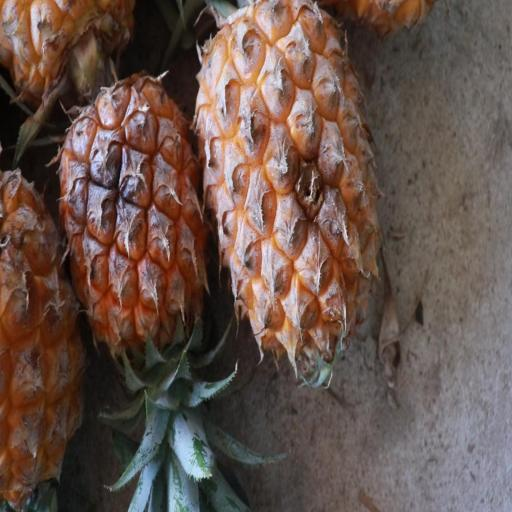Pineapple - v8 v1: (192, 0, 386, 375), (52, 61, 210, 366), (3, 492, 6, 497)
